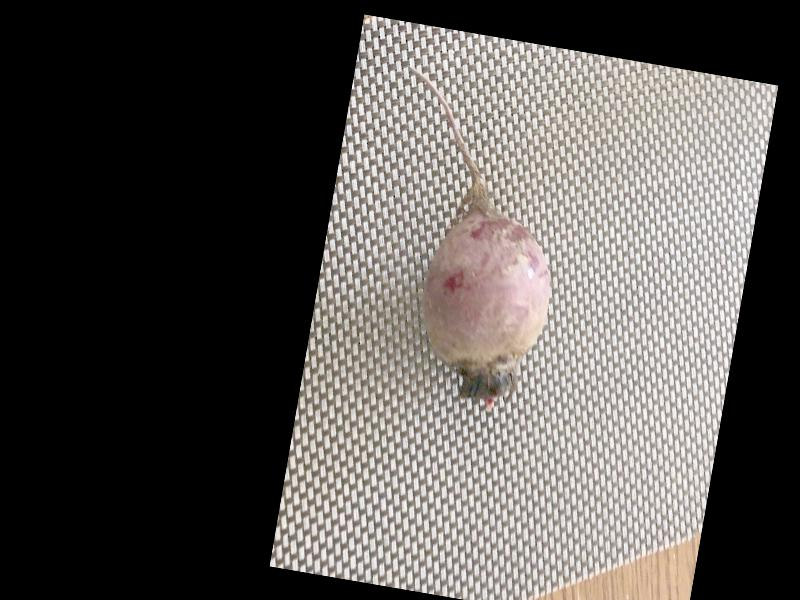Beet: (354, 65, 583, 418)
